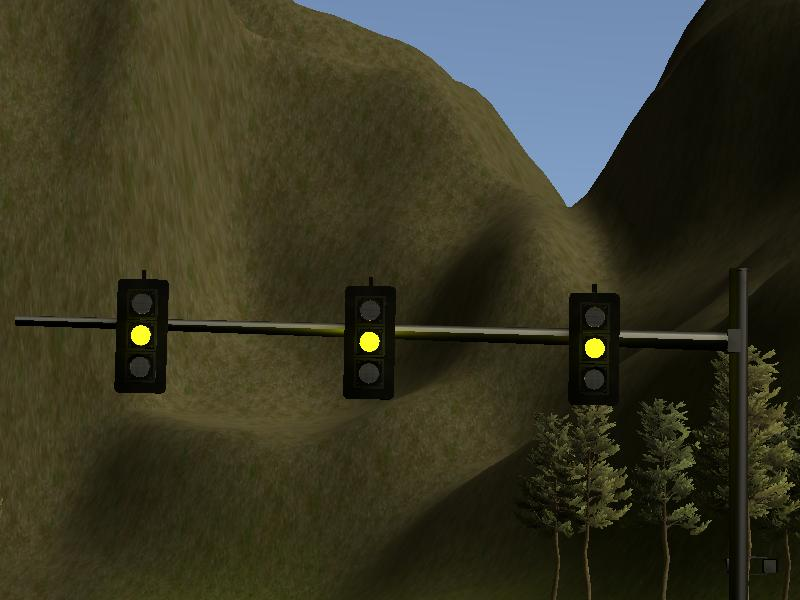yellow: (113, 277, 168, 394), (343, 283, 398, 400), (566, 292, 621, 409)
